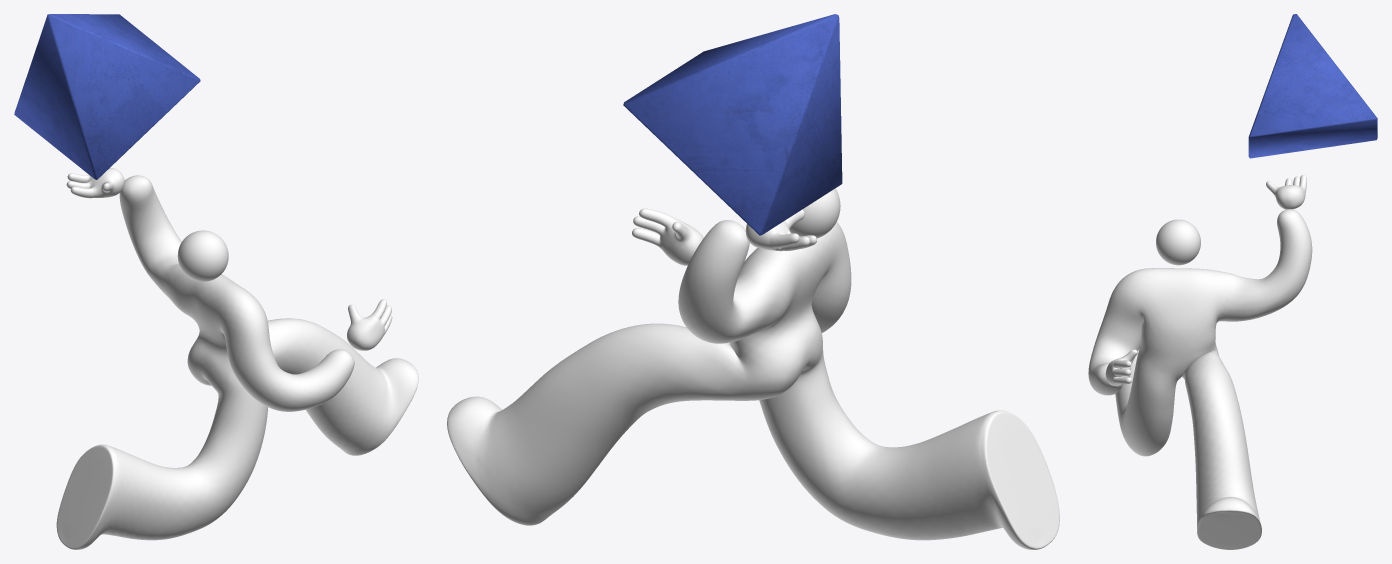
Rendered from K1-man2.gltf.
The picture shows the model from 3 angles, left to right: view 1: azimuth 30°, elevation 25°; view 2: azimuth 150°, elevation 25°; view 3: azimuth 270°, elevation 25°; orthographic projection. The views are drawn at different scales.
Parts seen in each view (by area): view 1: k1-man2, Pyramid.001; view 2: k1-man2, Pyramid.001; view 3: k1-man2, Pyramid.001.
Part boxes in pixels (bbox=[...]): k1-man2: bbox=[56, 168, 418, 549]; Pyramid.001: bbox=[14, 14, 200, 179]; k1-man2: bbox=[447, 188, 1059, 549]; Pyramid.001: bbox=[623, 14, 842, 235]; k1-man2: bbox=[1088, 175, 1312, 549]; Pyramid.001: bbox=[1248, 14, 1377, 158].
Bounding box in the file's own units: 38.33 × 43.94 × 27.25.
2 materials, 2 textured.
